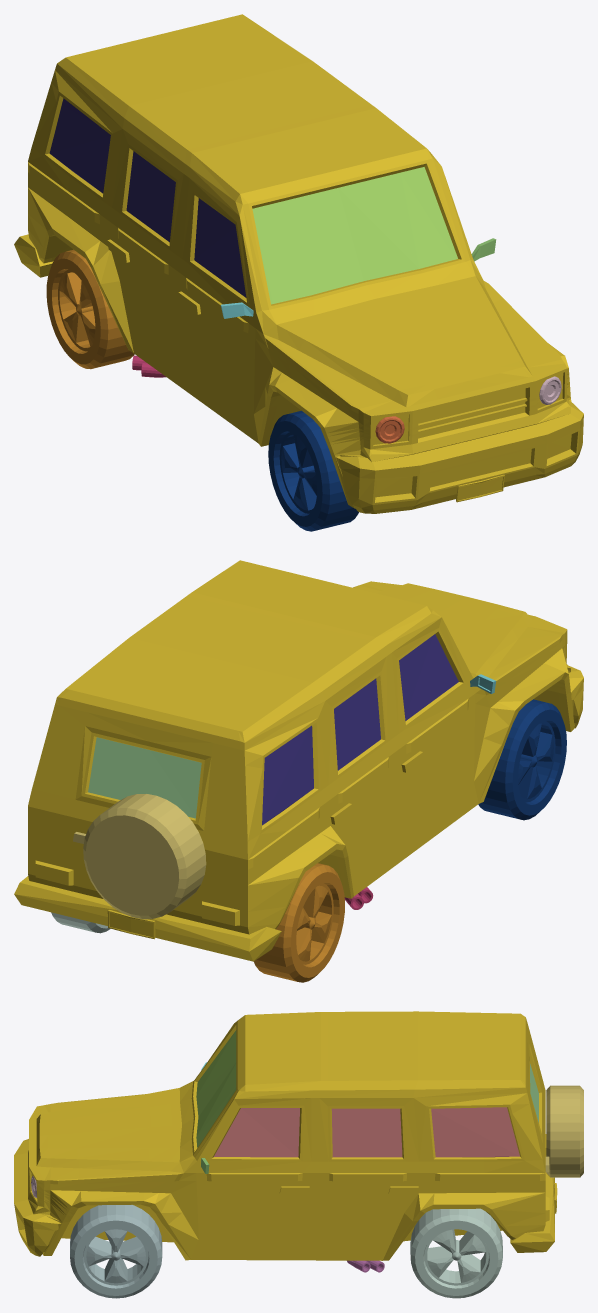
3 renders of one model, top to bottom at view 1: azimuth 30°, elevation 25°; view 2: azimuth 150°, elevation 25°; view 3: azimuth 270°, elevation 25°, orthographic. The views are drawn at different scales.
Parts seen in each view (by area): view 1: world; view 2: world; view 3: world.
Part boxes in pixels (x1,y1,x2,y2): world: (14,14,583,531); world: (14,560,583,982); world: (14,1011,583,1298).
Bounding box in the file's own units: 0.4268 × 0.4029 × 1.
